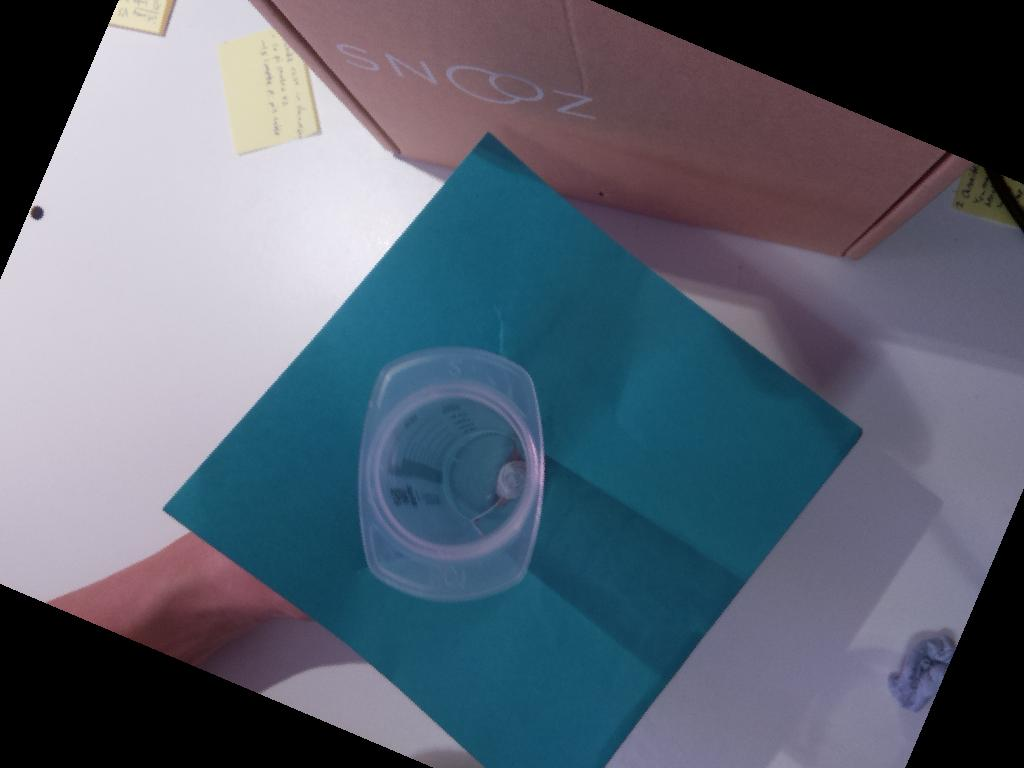clean: (358, 345, 544, 603)
